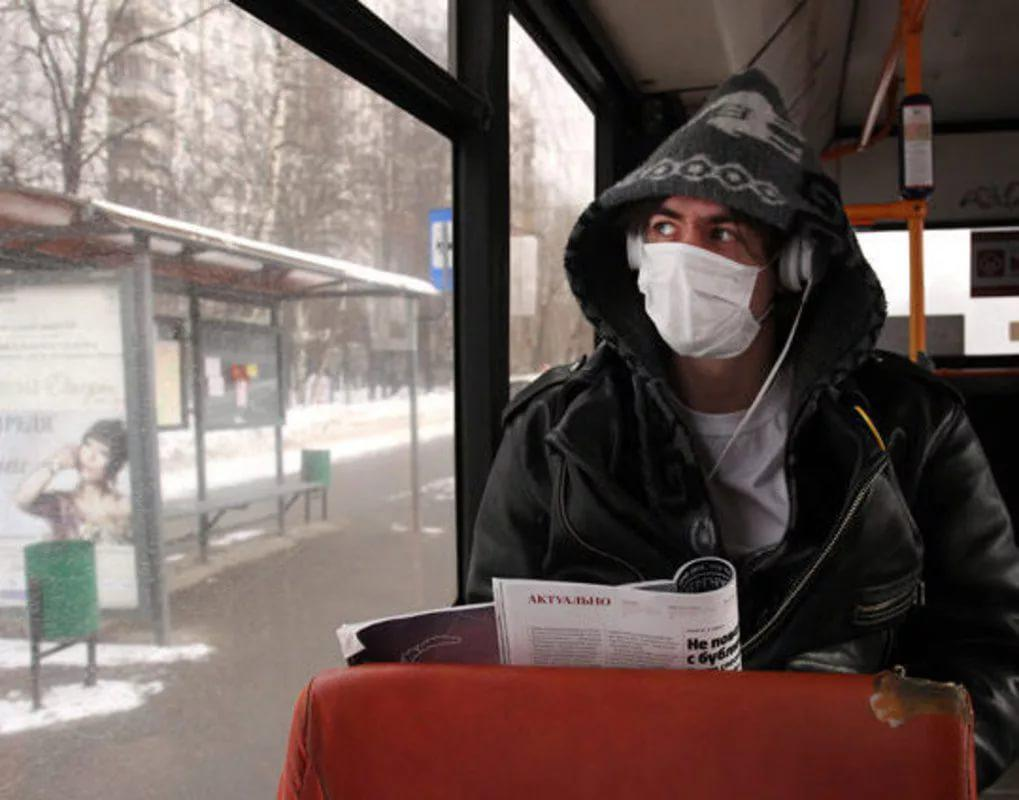mask: (624, 171, 774, 357)
